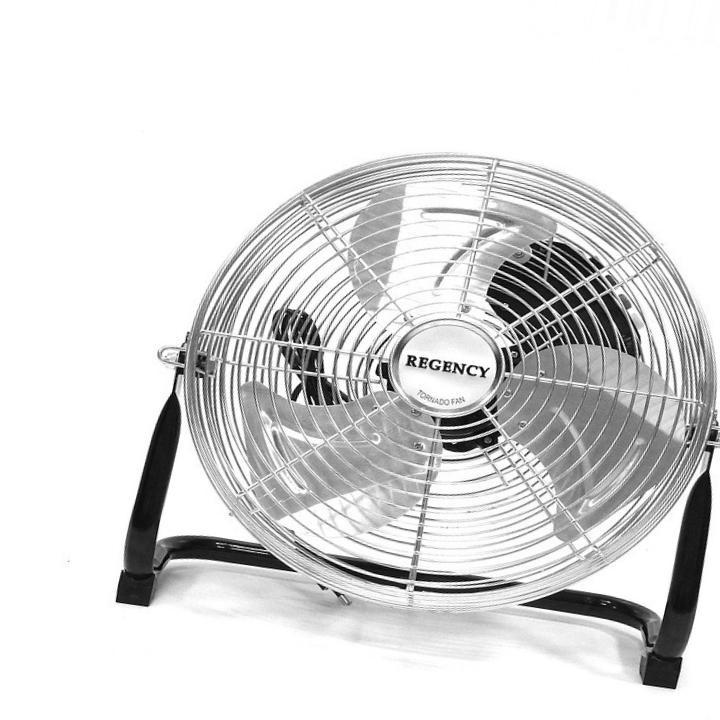fan: (81, 145, 720, 643)
